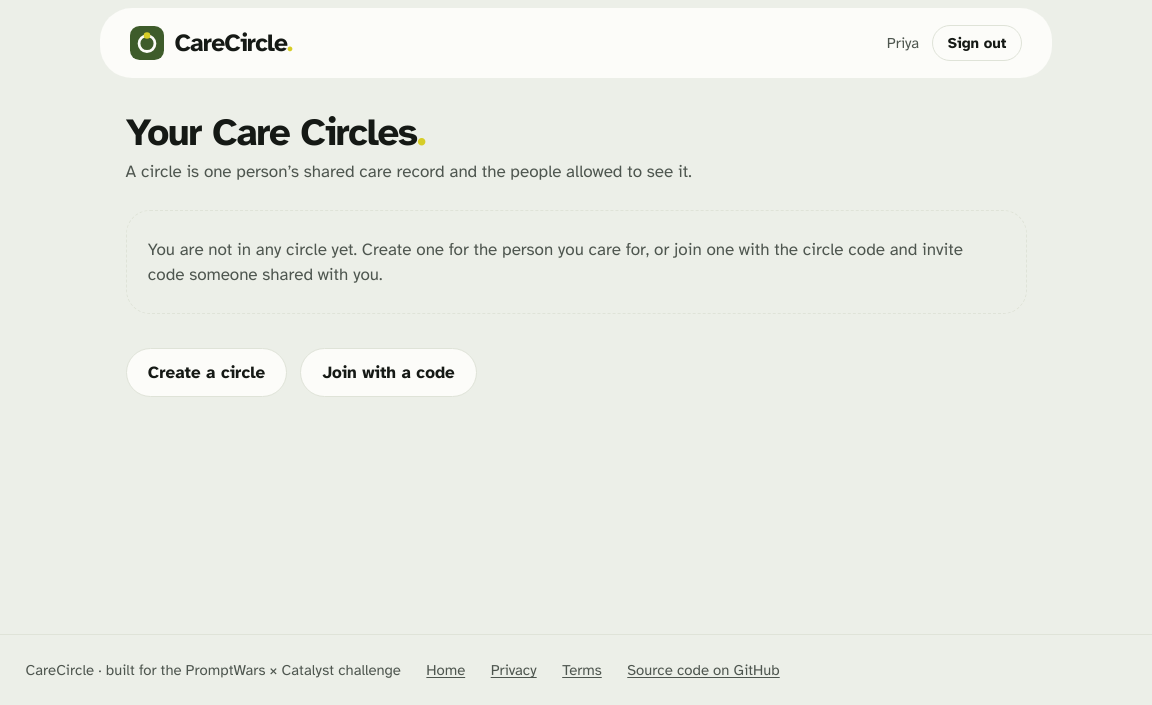
Test: Your Care Circles › a sample circle cannot be created as a caregiver, with a clear reason
Click the button "Create a circle".
click(206, 372)  # box [126,348,288,397]
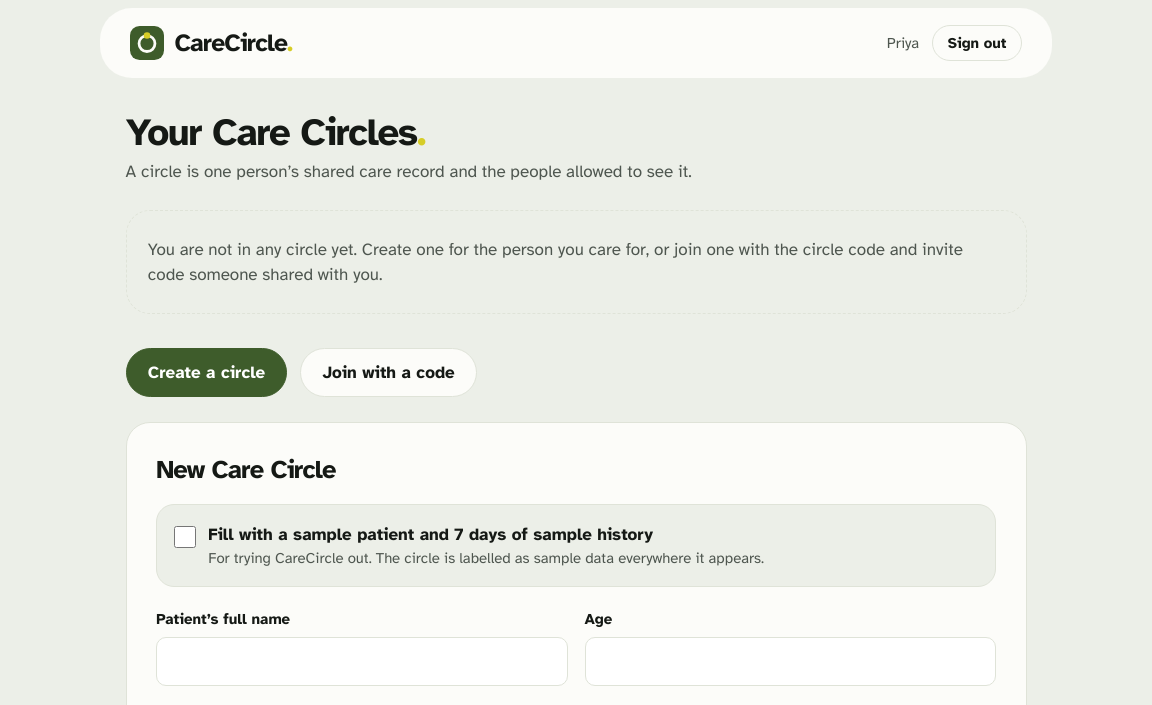
Click the checkbox labelled "Fill with a sample patient and 7 days of sample history".
click(185, 537)  # box [174,526,196,548]
(page scrolled)
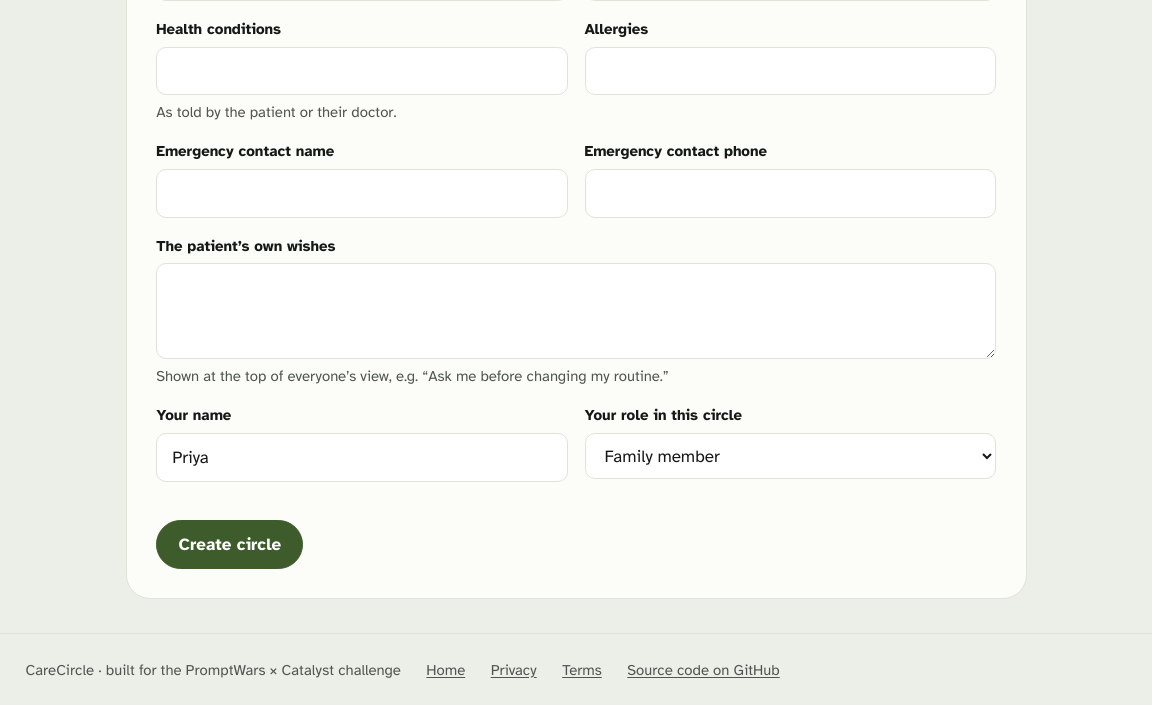
Select "Caregiver" in the dropdown labelled "Your role in this circle" at (790, 456), box [584,433,996,479]
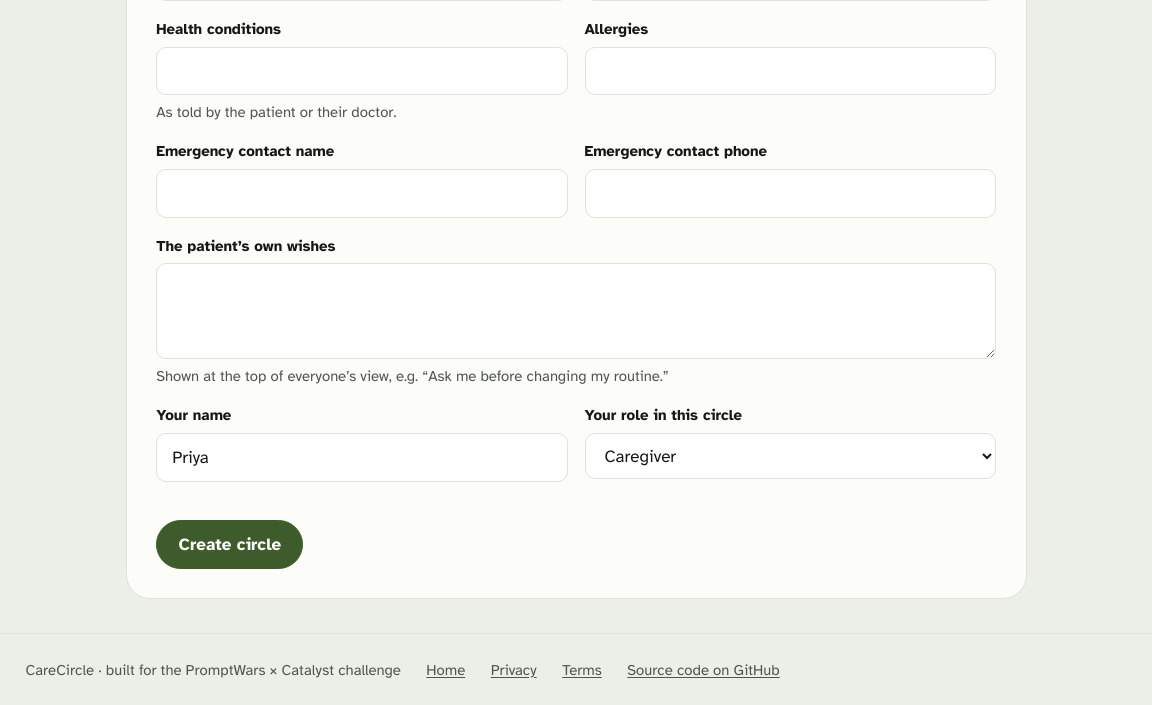
Click the button "Create circle".
click(230, 544)  # box [156,520,303,569]
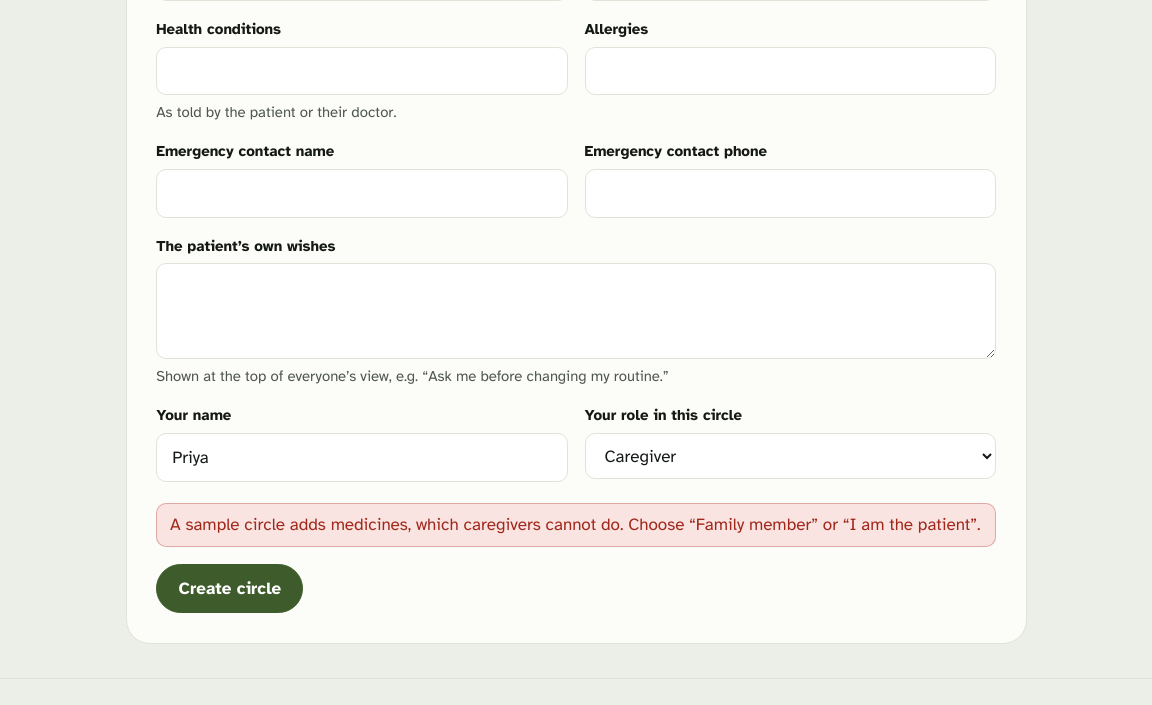
expect the message shows "caregivers cannot do": met, box [170,514,980,535]
